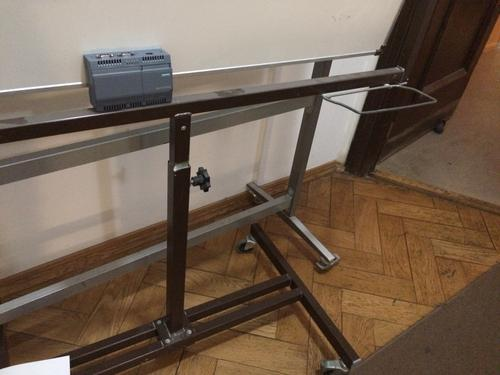iot2000: (82, 47, 173, 113)
